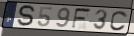3: (93, 9, 109, 31)
5: (37, 6, 54, 28)
9: (56, 7, 72, 29)
C: (109, 10, 129, 32)
F: (70, 7, 92, 30)
S: (17, 4, 36, 27)
